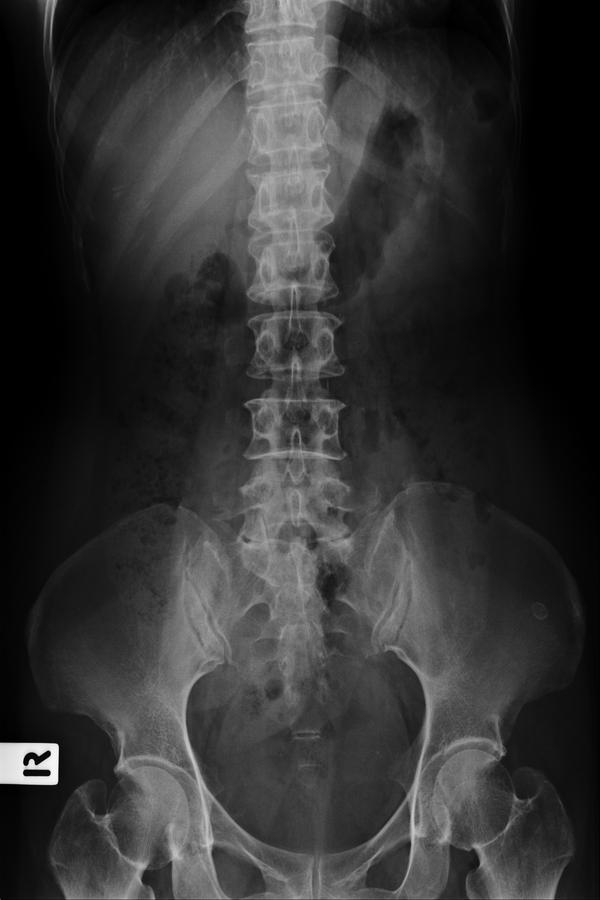not lumbar scoliosis: (235, 194, 348, 581)
